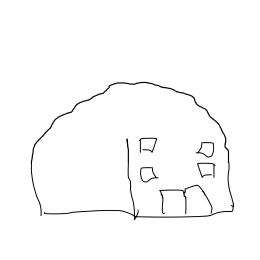door: (154, 183, 215, 220)
open_window: (134, 134, 162, 159), (194, 137, 218, 161), (135, 163, 162, 184), (195, 161, 219, 181)
single_line_roof: (24, 74, 242, 137)
wall: (123, 129, 240, 223)
